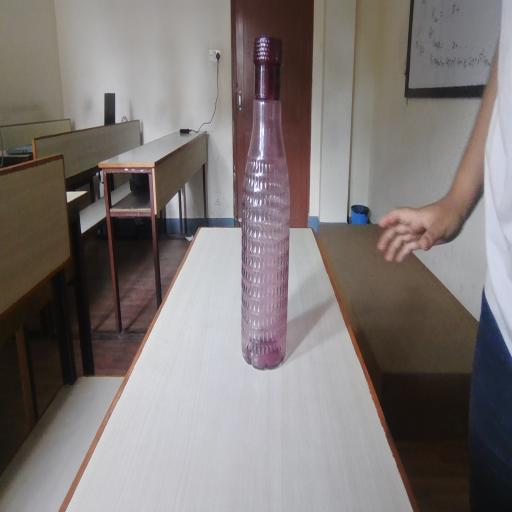Bottle: (244, 36, 315, 361)
